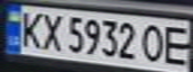2: (115, 18, 142, 61)
3: (100, 18, 121, 58)
5: (63, 14, 84, 54)
9: (81, 16, 103, 56)
E: (160, 22, 193, 68)
K: (15, 8, 45, 50)
O: (139, 21, 169, 64)
X: (36, 10, 66, 52)
